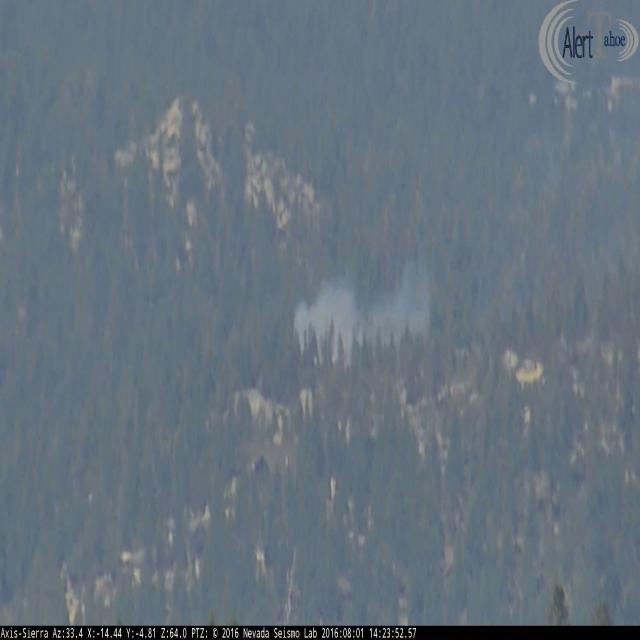smoke: (293, 252, 430, 368)
